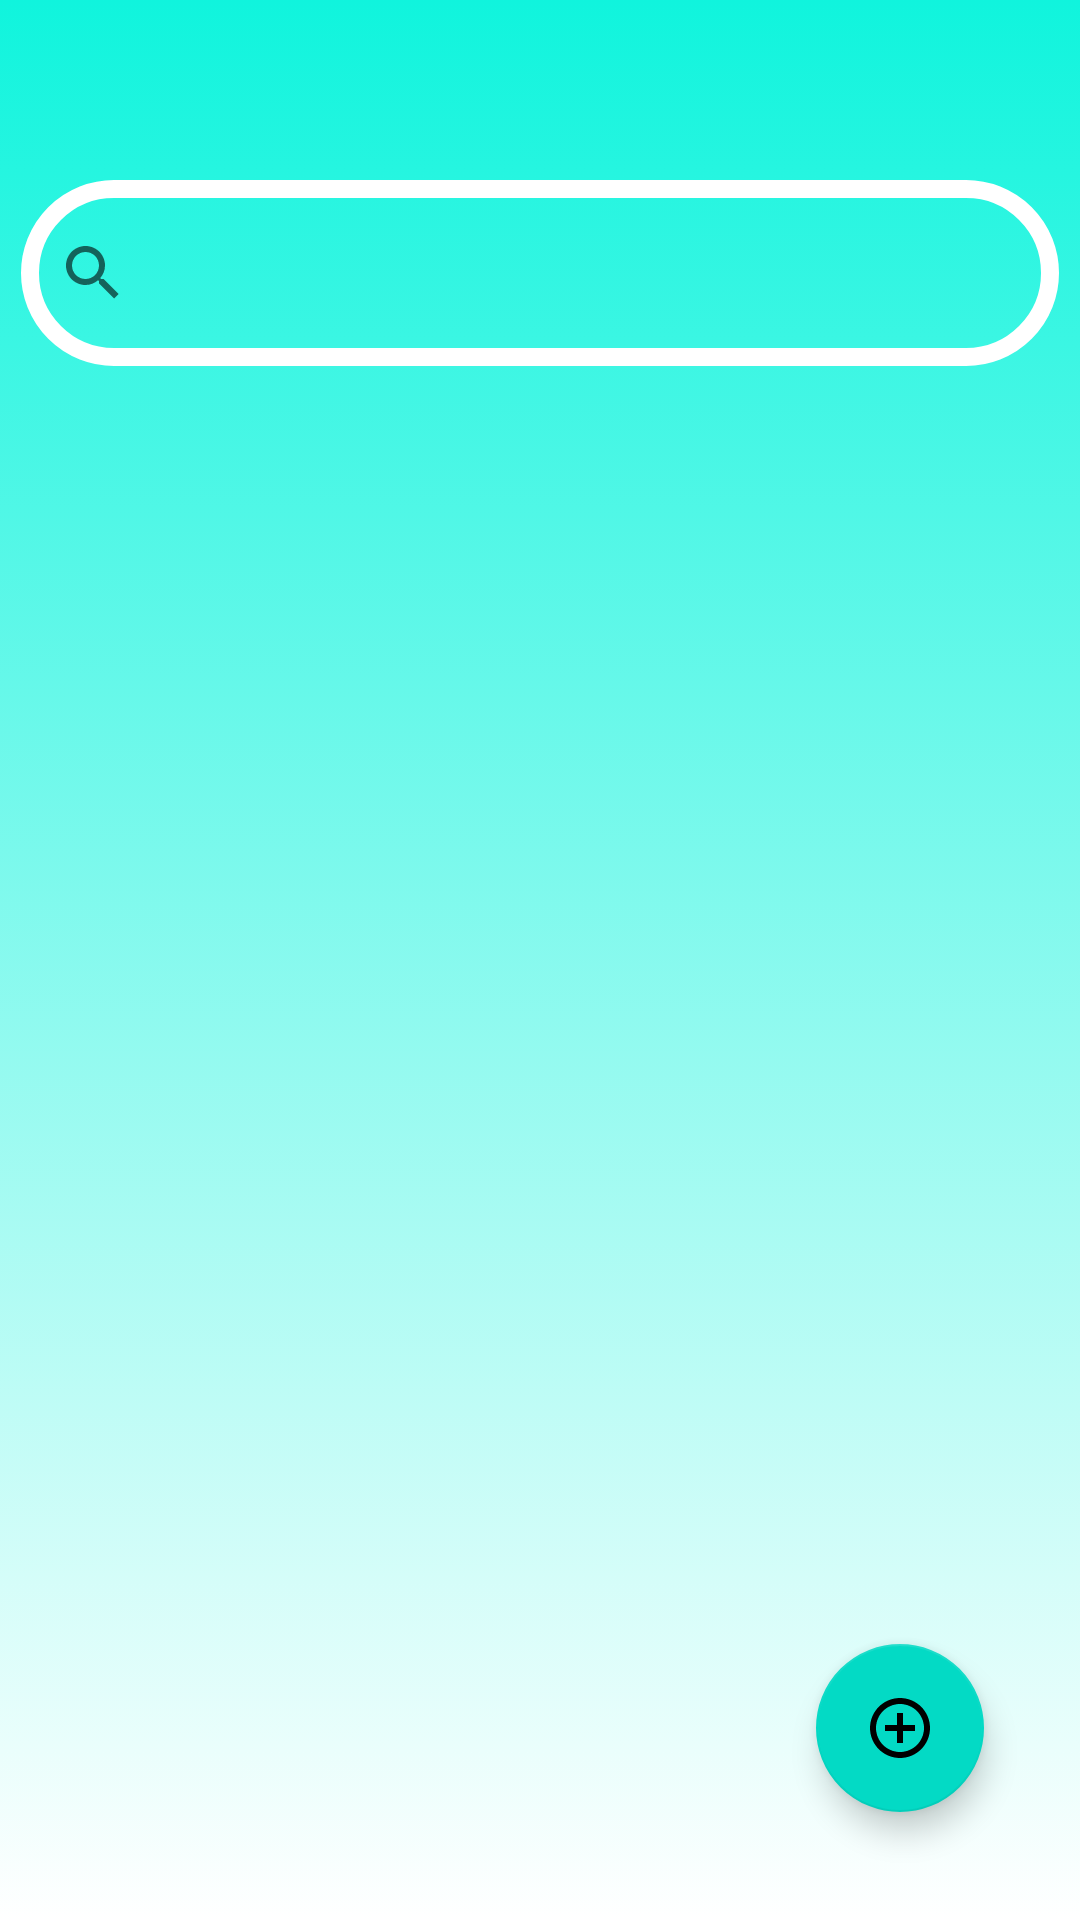

Icon bounding boxes for this 1080*1920 phone screenshot, format (x1, y1, x2, y2):
add med: (816, 1644, 984, 1812)
